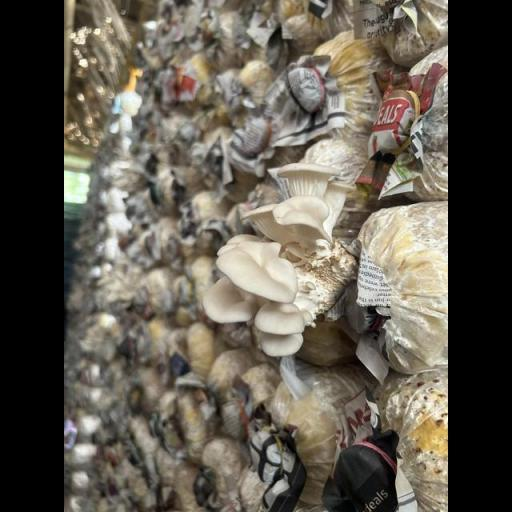White Oyster Mushroom: (199, 146, 362, 367)
